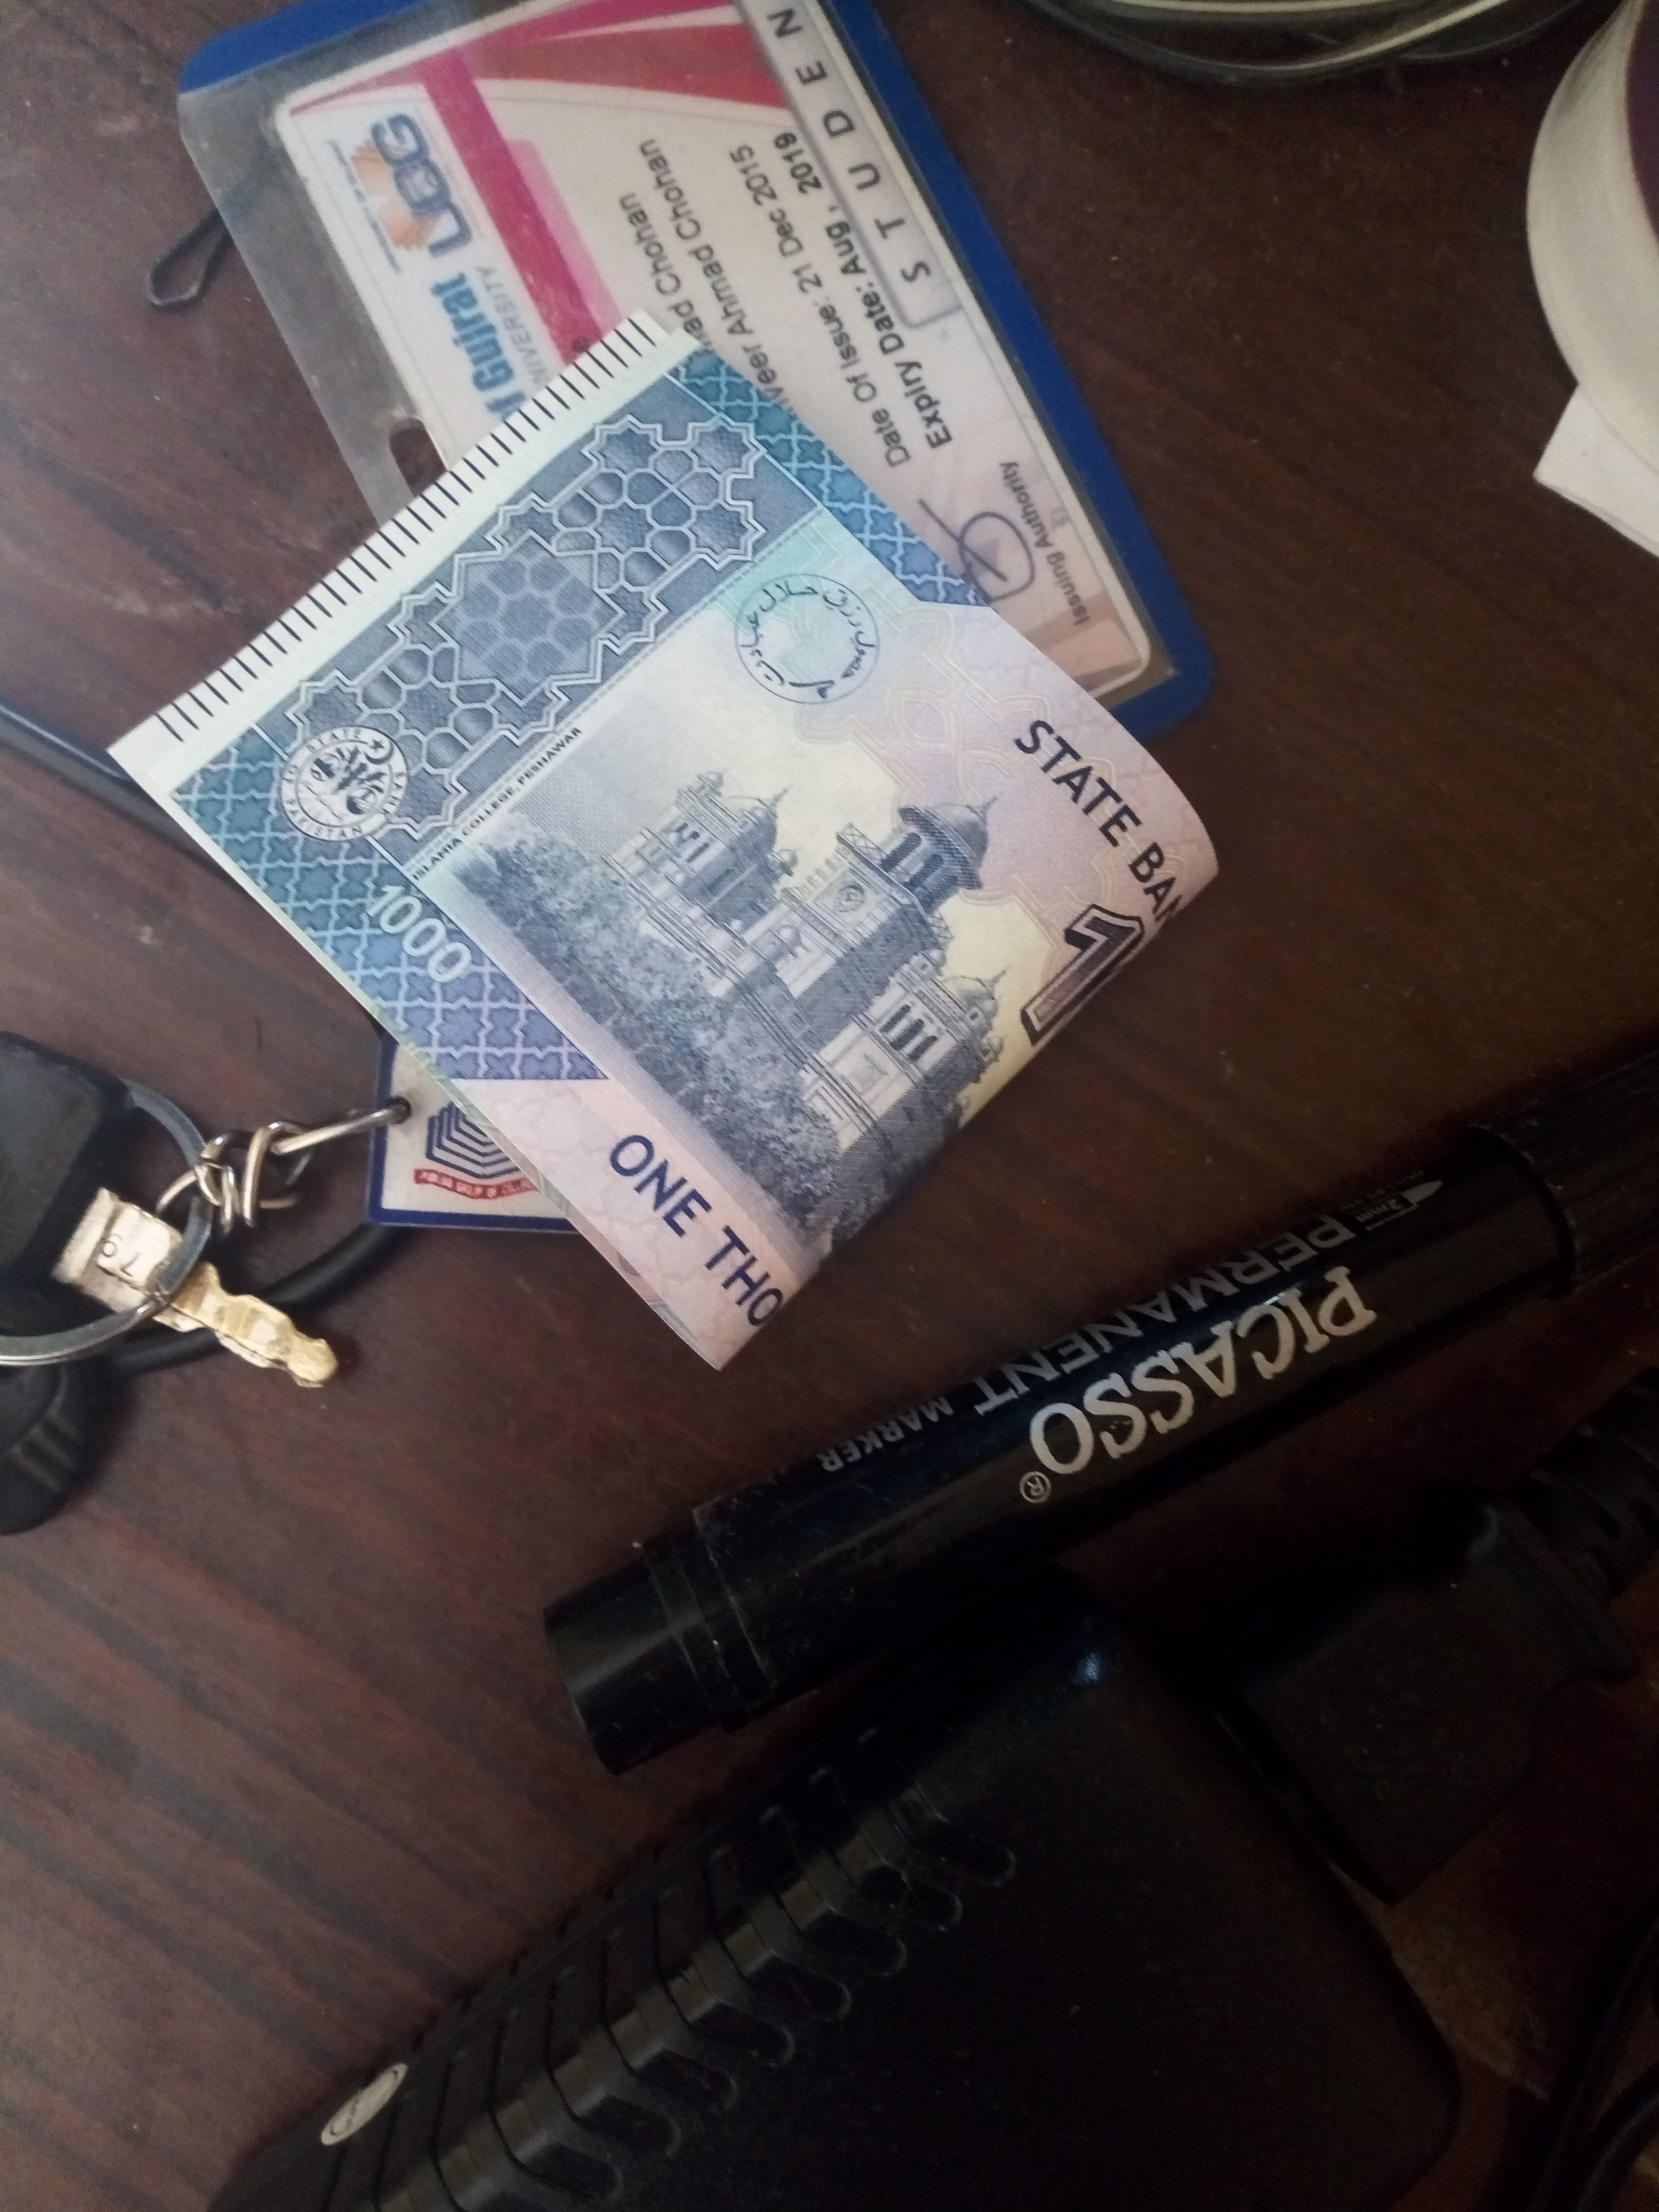1000 rupee: (129, 334, 1211, 1383)
